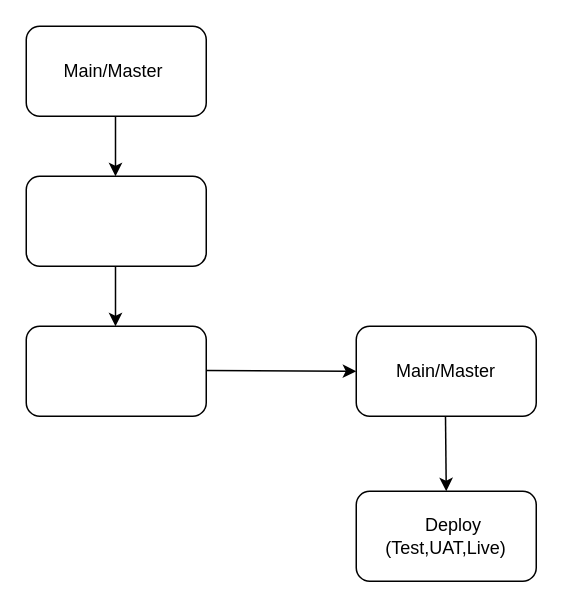
Image size: 563x608. Some labels were removed from this diagram. Here are the shapes that lost their labels. From the top down, the centre of each, then its label:
At point 115,220: "Feature Branch".
At point 115,370: "Release (V1.0)".
